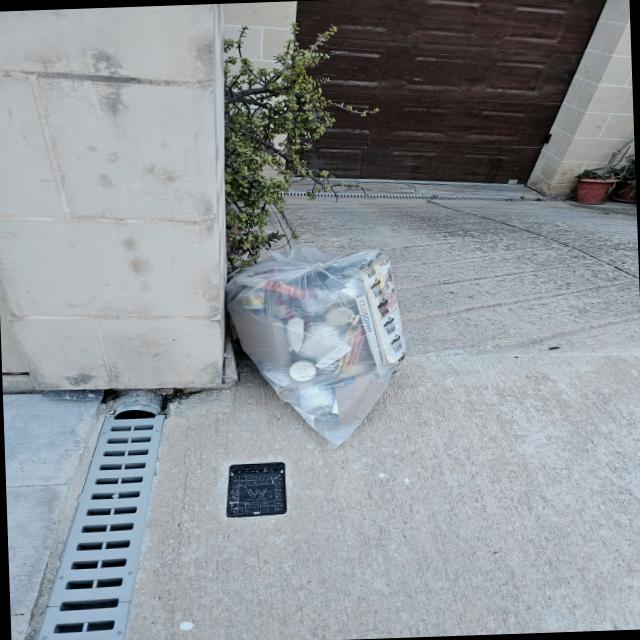grey_bag: (223, 243, 417, 452)
